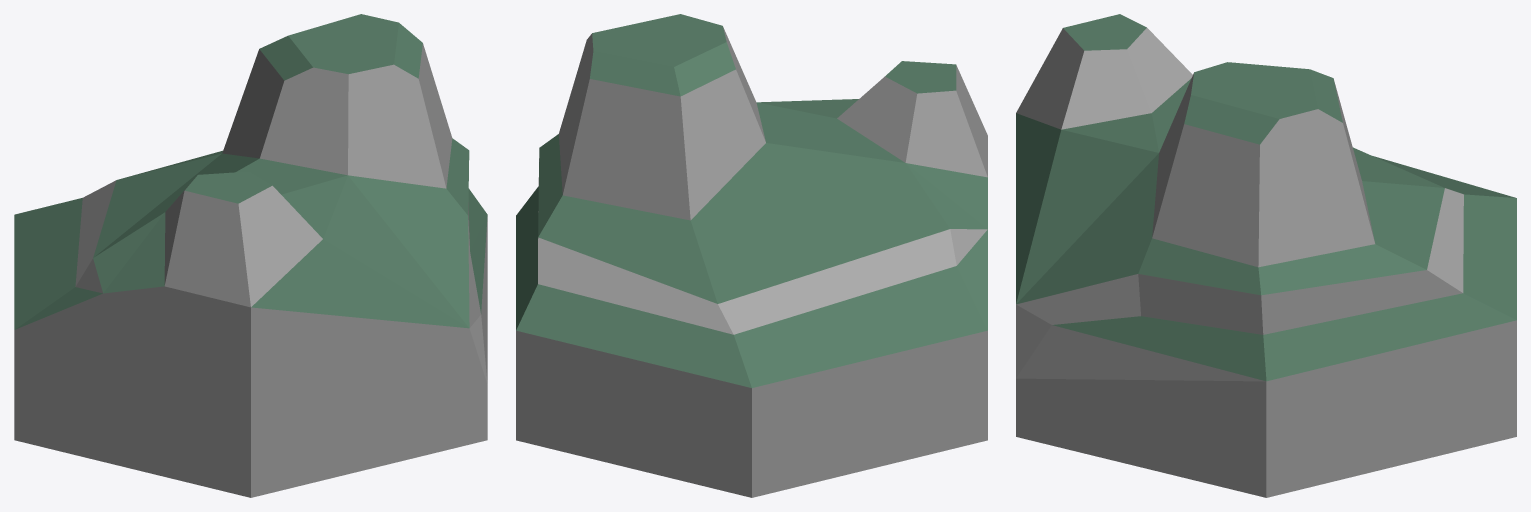
Rendered from Hex13.fbx.
The picture shows the model from 3 angles, left to right: view 1: azimuth 30°, elevation 25°; view 2: azimuth 150°, elevation 25°; view 3: azimuth 270°, elevation 25°; orthographic projection. The views are drawn at different scales.
Parts seen in each view (by area): view 1: Hex013; view 2: Hex013; view 3: Hex013.
Boxes of the visible parts, left/top/right/bottom form: Hex013: left=14, top=14, right=487, bottom=497; Hex013: left=516, top=14, right=987, bottom=497; Hex013: left=1016, top=14, right=1516, bottom=497.
Bounding box in the file's own units: 1.67 × 1.07 × 1.44.
